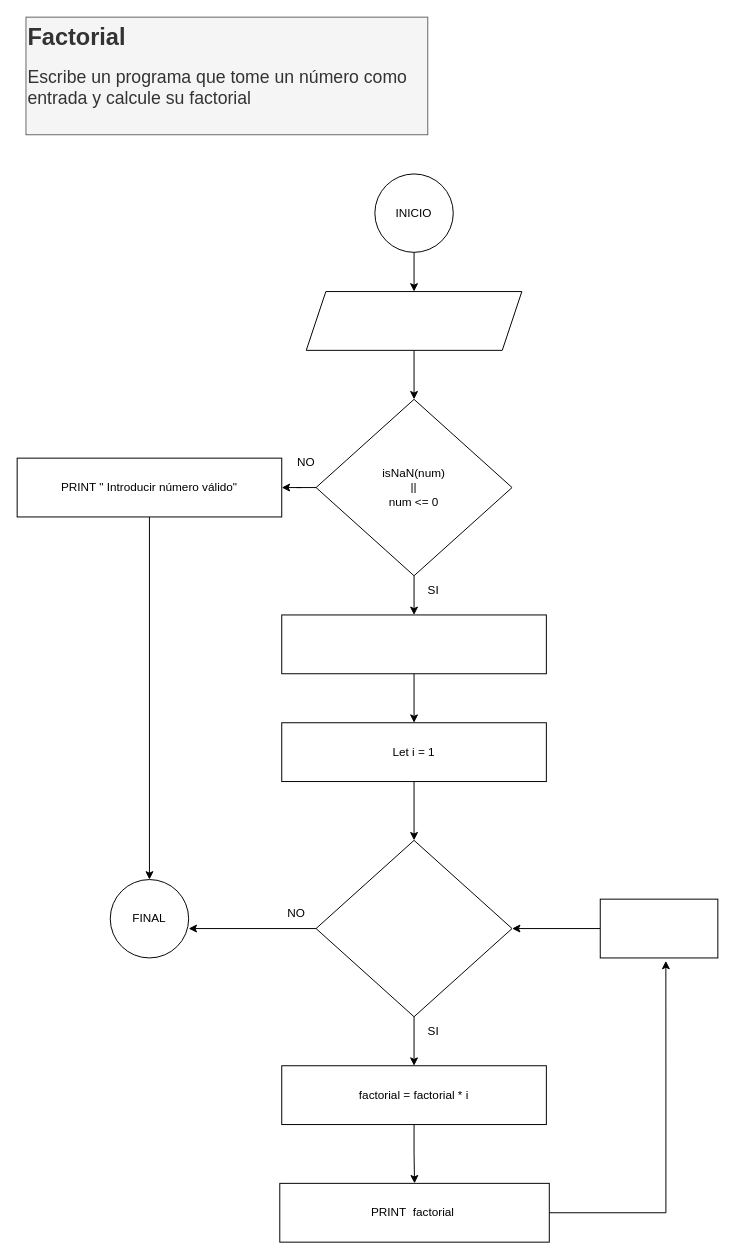
Image size: 735x1259. Some labels were removed from this diagram. Each missing label, with the centre of its shape:
"i + +" belongs at point 658,928.
"i <= num" belongs at point 413,928.
"Leer num" belongs at point 413,320.
"Let factorial = 1" belongs at point 413,644.
